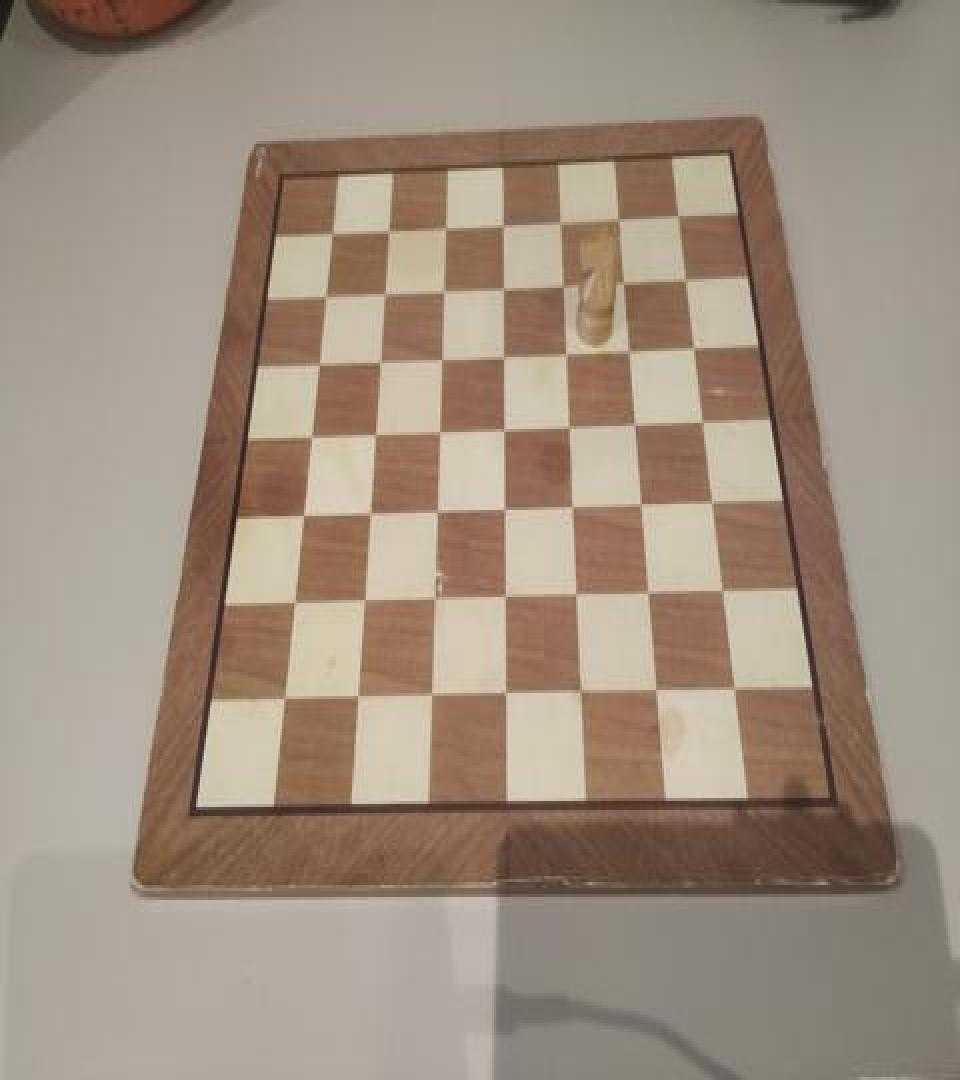xcorner: (359, 499, 379, 530), (274, 687, 294, 717), (348, 686, 368, 716), (422, 684, 442, 714), (574, 681, 594, 711), (650, 680, 670, 710), (728, 678, 748, 708), (283, 590, 303, 620), (354, 588, 374, 618), (497, 585, 517, 615), (569, 582, 589, 612), (715, 579, 735, 609), (292, 501, 312, 531), (427, 498, 447, 528), (496, 495, 516, 525), (564, 494, 584, 524), (634, 492, 654, 522), (704, 489, 724, 519), (300, 422, 320, 452), (364, 418, 384, 448), (429, 417, 449, 447), (495, 414, 515, 444), (561, 412, 581, 442), (627, 410, 647, 440), (694, 408, 714, 438), (307, 348, 327, 378), (369, 345, 389, 375), (431, 342, 451, 372), (494, 340, 514, 370), (557, 338, 577, 368), (620, 336, 640, 366), (684, 333, 704, 363), (314, 279, 334, 309), (373, 278, 393, 308), (433, 274, 453, 304), (493, 272, 513, 302), (554, 270, 574, 300), (614, 267, 634, 297), (676, 264, 696, 294), (320, 218, 340, 248), (377, 214, 397, 244), (435, 212, 455, 242), (492, 208, 512, 238), (550, 207, 570, 237), (609, 204, 629, 234), (668, 201, 688, 231), (498, 683, 518, 712), (425, 587, 445, 616), (642, 581, 662, 610)
